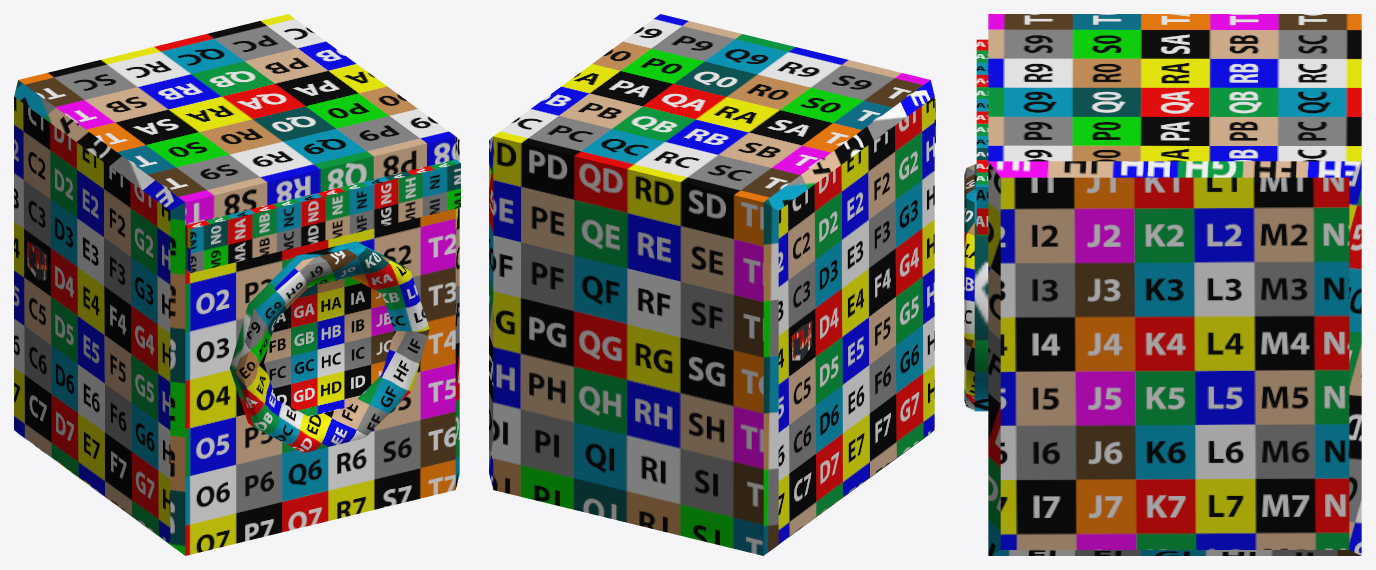
File: washingmachine1.2.FBX
The picture shows the model from 3 angles, left to right: view 1: azimuth 30°, elevation 25°; view 2: azimuth 150°, elevation 25°; view 3: azimuth 270°, elevation 25°; orthographic projection. The views are drawn at different scales.
Parts seen in each view (by area): view 1: Box022, washingmachine1; view 2: Box022; view 3: Box022, washingmachine1.
Part boxes in pixels (box(x1,y1,x2,y2)): Box022: box(14, 14, 460, 555); washingmachine1: box(229, 241, 429, 452); Box022: box(489, 14, 935, 555); Box022: box(976, 14, 1361, 555); washingmachine1: box(964, 164, 988, 411).
Bounding box in the file's own units: 1.35 × 1.57 × 1.43.
1 material, 1 textured.
